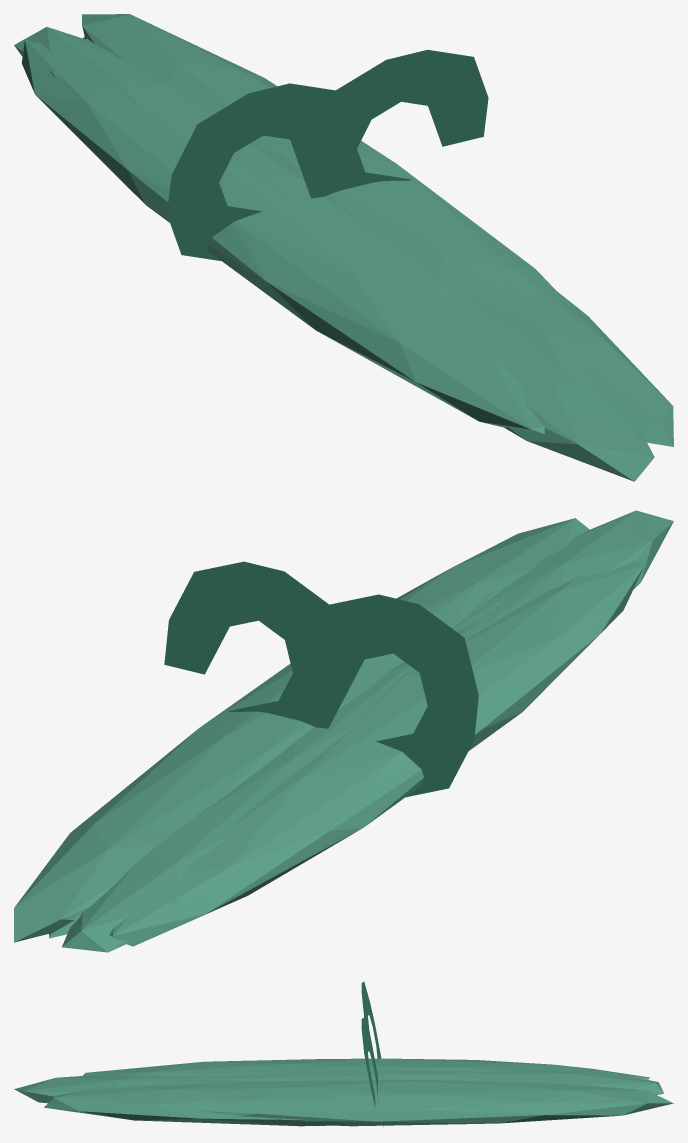
The model's file is lygodium-japonicum.glb.
3 renders of one model, top to bottom at view 1: azimuth 30°, elevation 25°; view 2: azimuth 150°, elevation 25°; view 3: azimuth 270°, elevation 25°, orthographic. The views are drawn at different scales.
Visible parts, largest first — view 1: frond3, frond0, fiddle1, fiddle-1, frond4, frond1, frond2; view 2: frond3, frond0, fiddle-1, fiddle1, frond4, frond2, frond1; view 3: frond0, frond1, frond3, frond4, frond2, fiddle-1, fiddle1.
Boxes of the visible parts, x1=… form: frond3: x1=21, y1=40, x2=544, y2=434; frond0: x1=82, y1=14, x2=576, y2=311; fiddle1: x1=304, y1=49, x2=488, y2=198; fiddle-1: x1=167, y1=83, x2=341, y2=260; frond4: x1=14, y1=27, x2=468, y2=321; frond1: x1=464, y1=282, x2=673, y2=446; frond2: x1=450, y1=297, x2=654, y2=481; frond3: x1=109, y1=561, x2=644, y2=946; frond0: x1=14, y1=601, x2=430, y2=942; fiddle-1: x1=303, y1=594, x2=478, y2=797; fiddle1: x1=164, y1=561, x2=343, y2=728; frond4: x1=62, y1=619, x2=487, y2=952; frond2: x1=455, y1=510, x2=673, y2=631; frond1: x1=396, y1=518, x2=589, y2=627; frond0: x1=199, y1=1080, x2=673, y2=1126; frond1: x1=44, y1=1082, x2=346, y2=1126; frond3: x1=83, y1=1058, x2=649, y2=1080; frond4: x1=206, y1=1069, x2=664, y2=1094; frond2: x1=14, y1=1074, x2=234, y2=1103; fiddle-1: x1=361, y1=981, x2=381, y2=1067; fiddle1: x1=361, y1=1017, x2=383, y2=1126.
Size of the model in its own units: 0.184 by 0.1056 by 0.6172.
